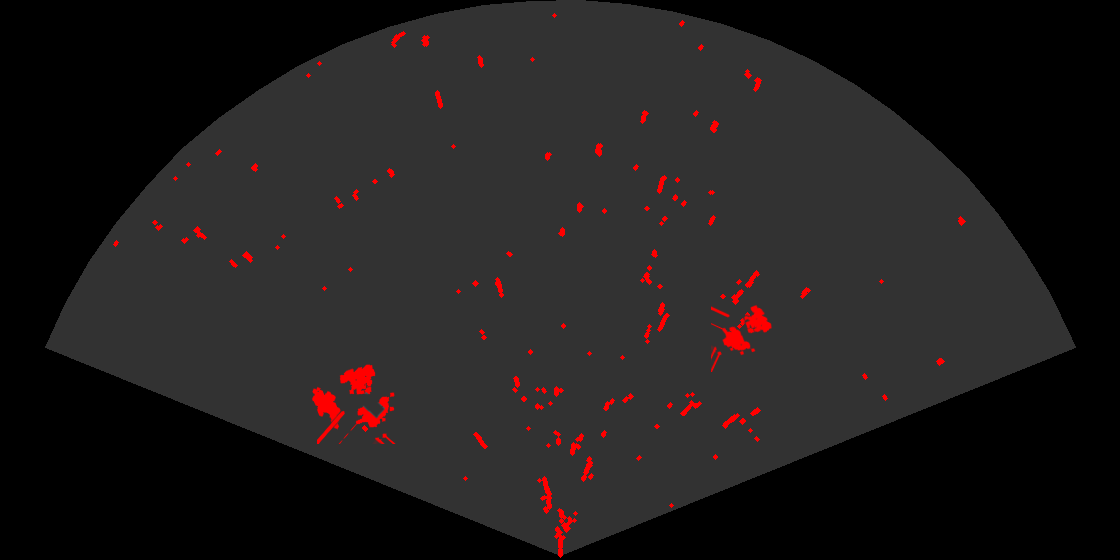AUV: (310, 385, 343, 431)
cage: (317, 363, 397, 444), (711, 304, 774, 372)
